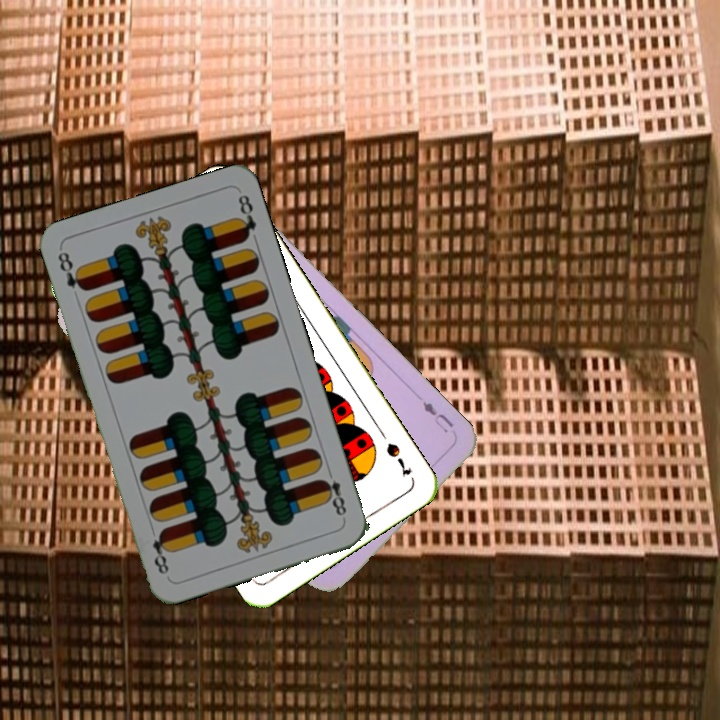E8: (317, 465, 349, 519), (53, 246, 89, 294)
EU: (418, 397, 456, 436)
S7: (381, 439, 414, 480)
